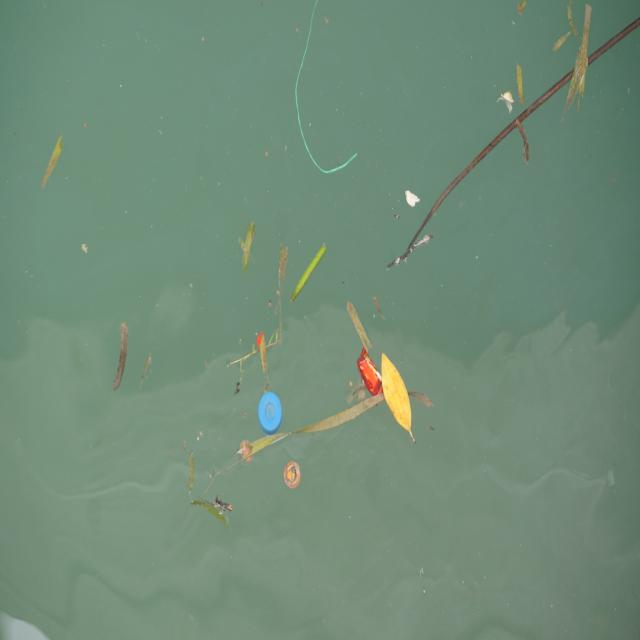Bungkus Makanan: (357, 348, 385, 401)
